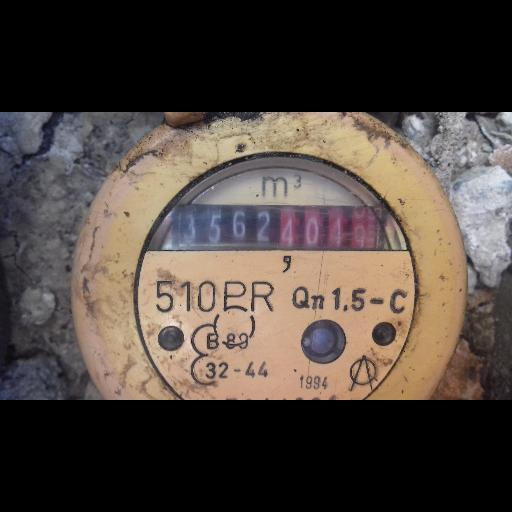0: (303, 207, 322, 249)
2: (254, 207, 273, 244)
3: (180, 207, 201, 245)
4: (278, 206, 298, 248), (327, 207, 346, 249)
5: (205, 206, 226, 244)
6: (231, 206, 247, 244)
8: (352, 207, 369, 249)
border_water_meter_number: (172, 204, 389, 251)
